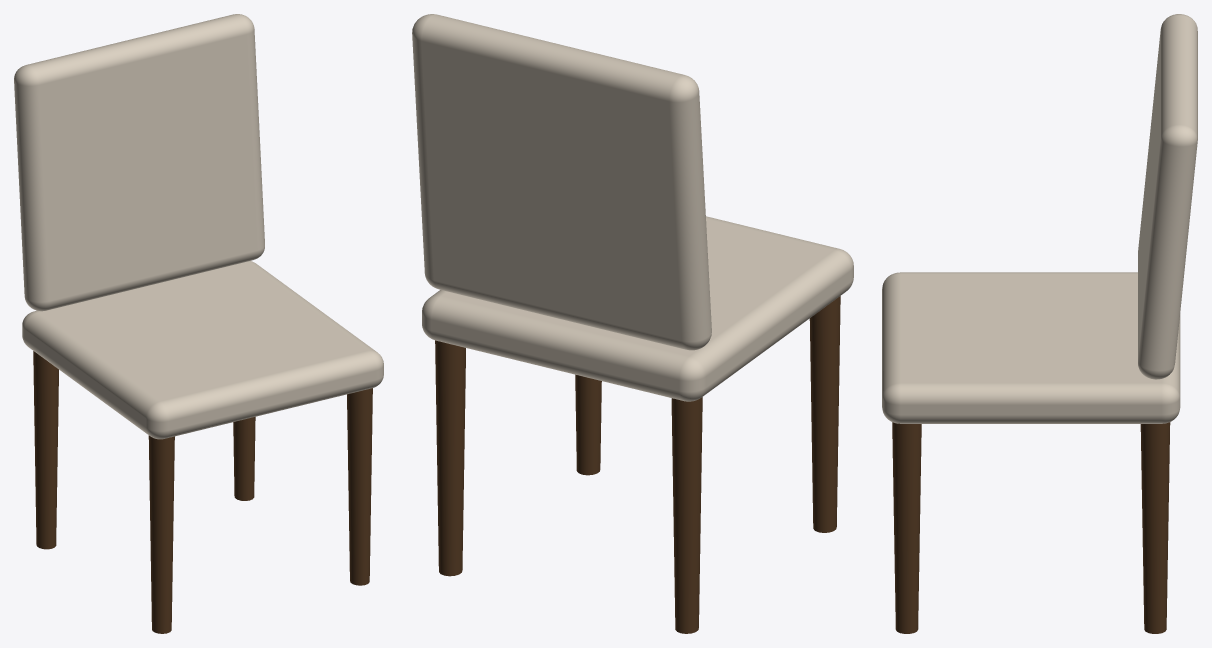
Rendered from dchair.glb.
The picture shows the model from 3 angles, left to right: view 1: azimuth 30°, elevation 25°; view 2: azimuth 150°, elevation 25°; view 3: azimuth 270°, elevation 25°; orthographic projection. The views are drawn at different scales.
Size of the model in its own units: 0.48 by 0.9179 by 0.5176.
